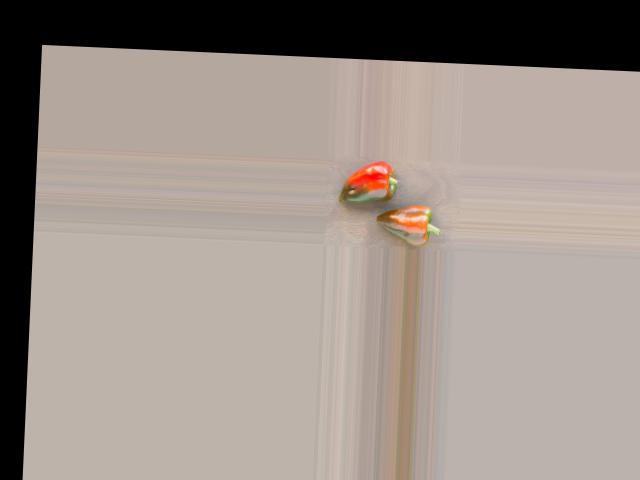bell_pepper: (335, 157, 419, 209)
